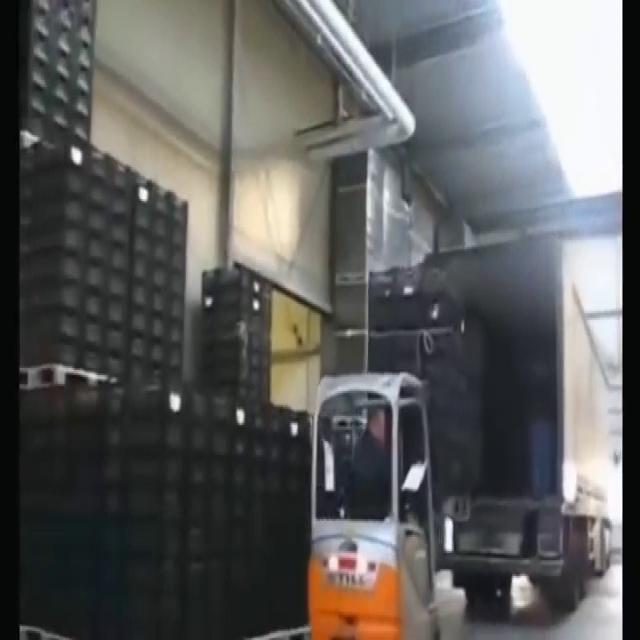Chariot elevateur: (306, 354, 448, 640)
